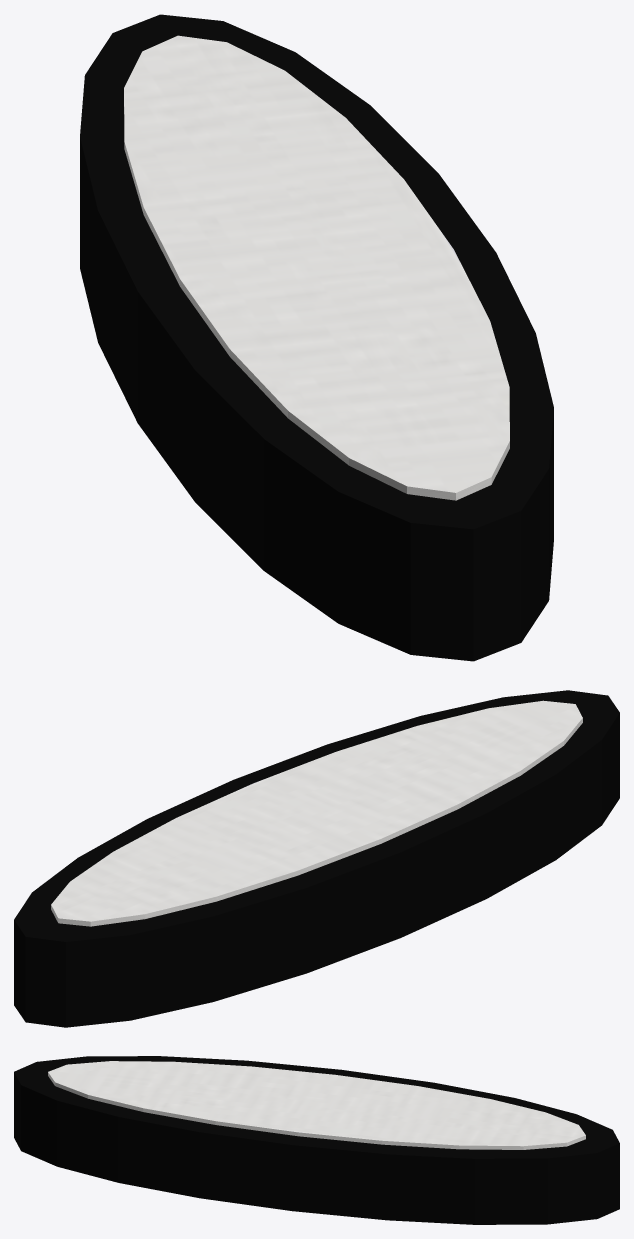
The model's file is flipperizq.obj.
3 views of the same model, one above another, from view 1: azimuth 30°, elevation 25°; view 2: azimuth 150°, elevation 25°; view 3: azimuth 270°, elevation 25° (orthographic). The views are drawn at different scales.
Visible parts, largest first — view 1: flipperizq:phong2SG6; view 2: flipperizq:phong2SG6; view 3: flipperizq:phong2SG6.
Part boxes in pixels (x1=…): flipperizq:phong2SG6: x1=80, y1=14, x2=553, y2=661; flipperizq:phong2SG6: x1=14, y1=690, x2=619, y2=1027; flipperizq:phong2SG6: x1=14, y1=1056, x2=619, y2=1224.
Size of the model in its own units: 0.4813 by 0.1524 by 1.2.
